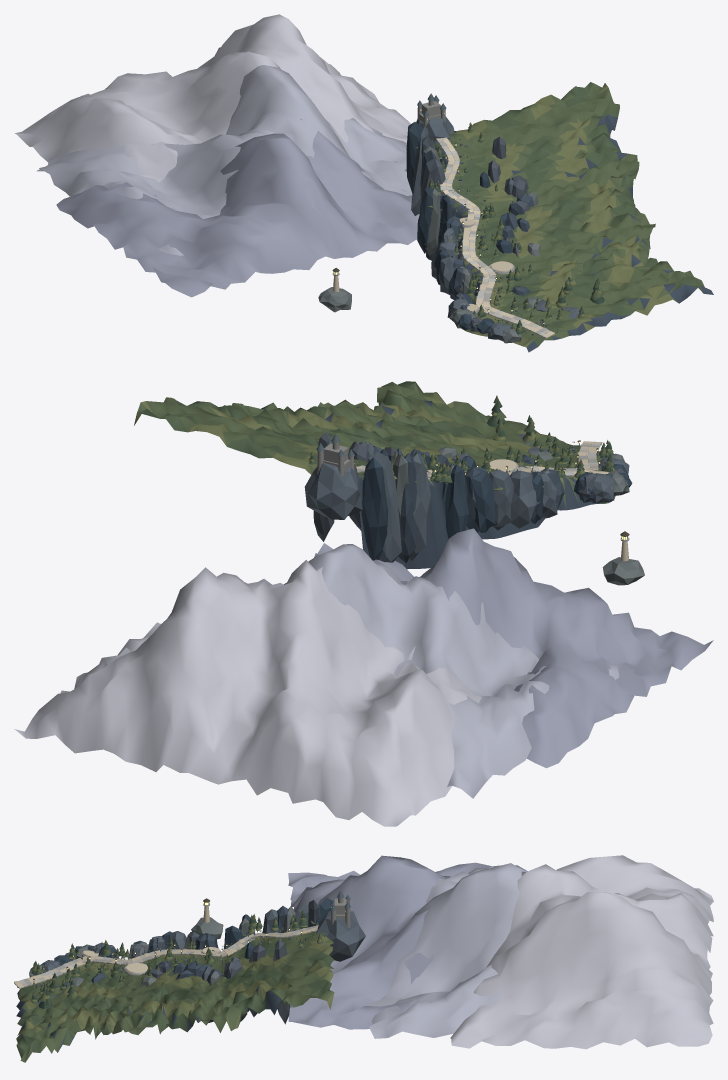
File: coast-hq.glb
3 renders of one model, top to bottom at view 1: azimuth 30°, elevation 25°; view 2: azimuth 150°, elevation 25°; view 3: azimuth 270°, elevation 25°, orthographic. The views are drawn at different scales.
Parts seen in each view (by area): view 1: Coastal escarpment, Mountain ridge 0, Mountain ridge 2, Mountain ridge 1, Cliff 3, Cliff 4, Cliff 2, Cliff 1, Cliff 0, Limestone 1, Needles 3, Needles 2 (+6 smaller); view 2: Mountain ridge 2, Mountain ridge 0, Mountain ridge 1, Coastal escarpment, Cliff 3, Cliff 4, Cliff 1, Cliff 2, Cliff 0, Needles 2, Needles 0, Needles 1 (+3 smaller); view 3: Mountain ridge 2, Coastal escarpment, Mountain ridge 1, Mountain ridge 0, Cliff 3, Cliff 2, Cliff 0, Cliff 1, Cliff 4, Limestone 1, Needles 2, Needles 0 (+7 smaller).
Part boxes in pixels (bbox=[...]): Coastal escarpment: bbox=[426, 82, 713, 352]; Mountain ridge 0: bbox=[56, 119, 419, 297]; Mountain ridge 2: bbox=[14, 14, 410, 181]; Mountain ridge 1: bbox=[36, 65, 412, 257]; Cliff 3: bbox=[411, 116, 579, 339]; Cliff 4: bbox=[406, 122, 512, 334]; Cliff 2: bbox=[318, 146, 578, 343]; Cliff 1: bbox=[420, 143, 543, 335]; Cliff 0: bbox=[451, 136, 547, 331]; Limestone 1: bbox=[333, 139, 550, 338]; Needles 3: bbox=[429, 122, 602, 329]; Needles 2: bbox=[428, 123, 602, 331]; Mountain ridge 2: bbox=[14, 560, 481, 826]; Mountain ridge 0: bbox=[283, 528, 713, 768]; Mountain ridge 1: bbox=[245, 544, 636, 798]; Coastal escarpment: bbox=[134, 381, 615, 569]; Cliff 3: bbox=[304, 433, 629, 562]; Cliff 4: bbox=[361, 449, 632, 560]; Cliff 1: bbox=[373, 446, 620, 563]; Cliff 2: bbox=[364, 436, 644, 585]; Cliff 0: bbox=[313, 432, 624, 541]; Needles 2: bbox=[309, 395, 613, 481]; Needles 0: bbox=[311, 403, 614, 481]; Needles 1: bbox=[309, 399, 613, 482]; Mountain ridge 2: bbox=[450, 855, 713, 1049]; Coastal escarpment: bbox=[16, 931, 334, 1062]; Mountain ridge 1: bbox=[368, 863, 524, 1038]; Mountain ridge 0: bbox=[288, 855, 527, 1029]; Cliff 3: bbox=[37, 900, 365, 1004]; Cliff 2: bbox=[29, 906, 302, 1022]; Cliff 0: bbox=[36, 938, 289, 1024]; Cliff 1: bbox=[75, 906, 307, 1022]; Cliff 4: bbox=[41, 897, 332, 1011]; Limestone 1: bbox=[14, 906, 315, 985]; Needles 2: bbox=[31, 909, 321, 1002]; Needles 0: bbox=[31, 913, 321, 1008].
Bounding box in the file's own units: 114 × 31.71 × 157.
